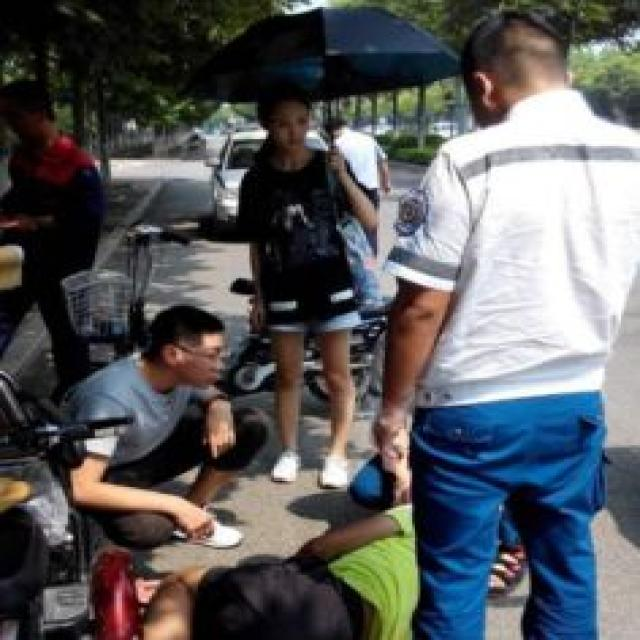Fall: (150, 501, 419, 640)
